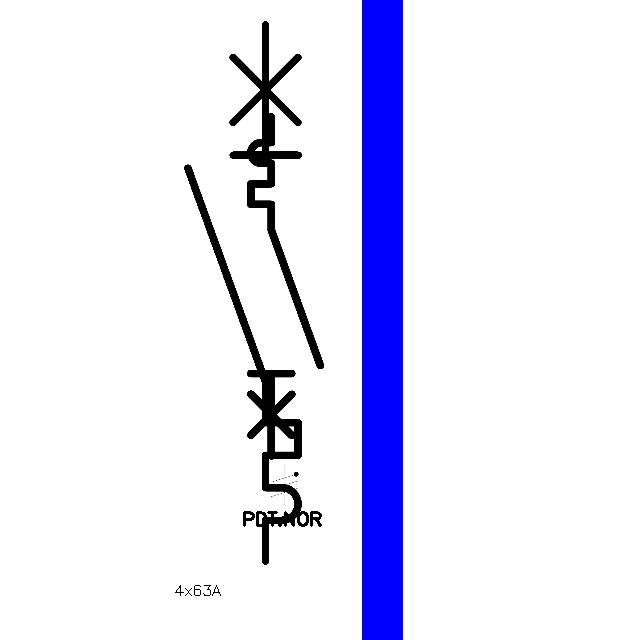interruptor_termomagnetico: (174, 11, 312, 575), (242, 108, 329, 465)
